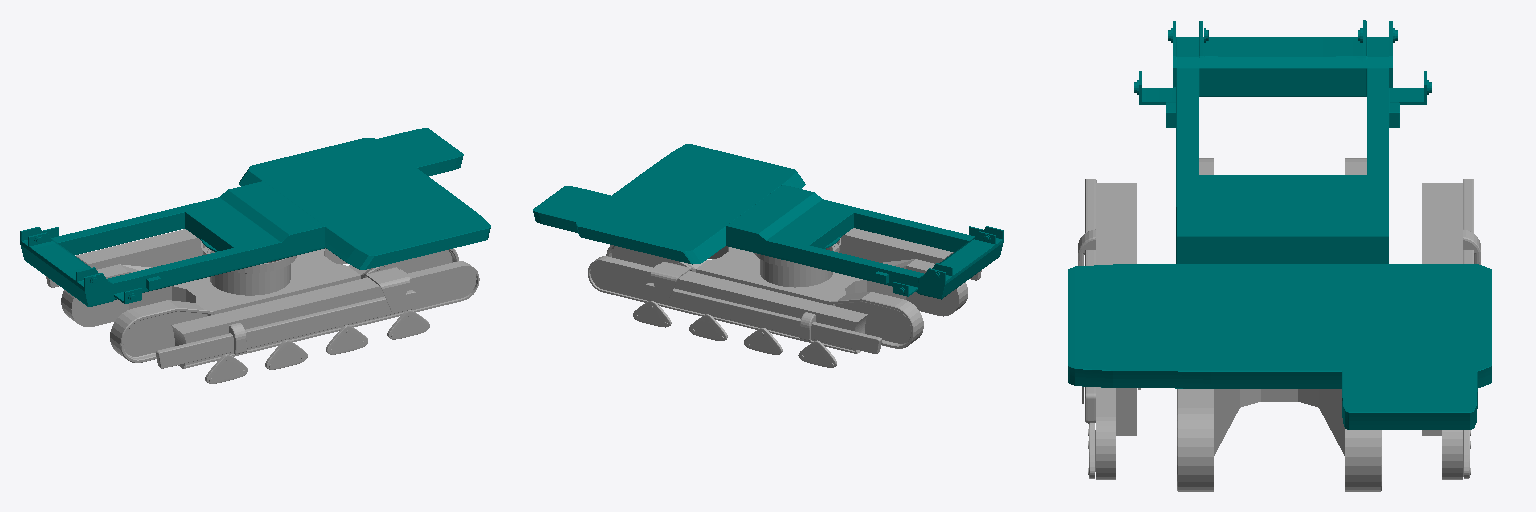
robot.urdf — ic120:
<?xml version="1.0" encoding="utf-8"?>
<!-- =================================================================================== -->
<!-- |    This document was autogenerated by xacro from ic120.xacro                    | -->
<!-- |    EDITING THIS FILE BY HAND IS NOT RECOMMENDED                                 | -->
<!-- =================================================================================== -->
<robot name="ic120">
  <!-- <xacro:property name="model_offset_x" value="-1.5" />
  <xacro:property name="model_offset_y" value="-3.1" /> -->
  <link name="base_link"/>
  <link name="track_frame_link">
    <visual>
      <geometry>
        <mesh filename="package://ic120_model/mesh/track_frame.stl"/>
      </geometry>
      <origin rpy="0 0 1.57079632675" xyz="3.1 -1.5 0"/>
      <material name="Gray">
        <color rgba="0.7 0.7 0.7 1.0"/>
      </material>
    </visual>
    <inertial>
      <mass value="1"/>
      <inertia ixx="1" ixy="0.0" ixz="0.0" iyy="1" iyz="0.0" izz="1"/>
    </inertial>
  </link>
  <joint name="track_frame_joint" type="fixed">
    <origin rpy="0 0 0" xyz="0 0 0"/>
    <parent link="base_link"/>
    <child link="track_frame_link"/>
    <axis xyz="0 0 1"/>
  </joint>
  <link name="track_belt_link">
    <visual>
      <geometry>
        <mesh filename="package://ic120_model/mesh/track_belt.stl"/>
      </geometry>
      <origin rpy="0 0 1.57079632675" xyz="3.1 -1.5 0"/>
      <material name="Black">
        <color rgba="0 0 0 1.0"/>
      </material>
    </visual>
    <inertial>
      <mass value="1"/>
      <inertia ixx="1" ixy="0.0" ixz="0.0" iyy="1" iyz="0.0" izz="1"/>
    </inertial>
  </link>
  <joint name="track_belt_joint" type="fixed">
    <origin rpy="0 0 0" xyz="0 0 0"/>
    <parent link="track_frame_link"/>
    <child link="track_belt_link"/>
    <axis xyz="0 0 1"/>
  </joint>
  <link name="upper_frame_link">
    <visual>
      <geometry>
        <mesh filename="package://ic120_model/mesh/upper.stl"/>
      </geometry>
      <origin rpy="0 0 1.57079632675" xyz="3.1 -1.5 0"/>
      <material name="Teal">
        <color rgba="0 0.5 0.5 1.0"/>
      </material>
    </visual>
    <inertial>
      <mass value="1"/>
      <inertia ixx="1" ixy="0.0" ixz="0.0" iyy="1" iyz="0.0" izz="1"/>
    </inertial>
  </link>
  <joint name="upper_frame_joint" type="fixed">
    <origin rpy="0 0 0" xyz="0 0 0"/>
    <parent link="track_frame_link"/>
    <child link="upper_frame_link"/>
    <axis xyz="0 0 1"/>
  </joint>
  <link name="cabin_link">
    <visual>
      <geometry>
        <mesh filename="package://ic120_model/mesh/cabin.stl"/>
      </geometry>
      <origin rpy="0 0 1.57079632675" xyz="3.1 -1.5 0"/>
      <material name="Black">
        <color rgba="0 0 0 1.0"/>
      </material>
    </visual>
    <inertial>
      <mass value="1"/>
      <inertia ixx="1" ixy="0.0" ixz="0.0" iyy="1" iyz="0.0" izz="1"/>
    </inertial>
  </link>
  <joint name="cabin_joint" type="fixed">
    <origin rpy="0 0 0" xyz="0 0 0"/>
    <parent link="track_frame_link"/>
    <child link="cabin_link"/>
    <axis xyz="0 0 1"/>
  </joint>
  <link name="cabin_window_link">
    <visual>
      <geometry>
        <mesh filename="package://ic120_model/mesh/cabin_window.stl"/>
      </geometry>
      <origin rpy="0 0 1.57079632675" xyz="3.1 -1.5 0"/>
      <material name="Gray">
        <color rgba="0.7 0.7 0.7 0.2"/>
      </material>
    </visual>
    <inertial>
      <mass value="1"/>
      <inertia ixx="1" ixy="0.0" ixz="0.0" iyy="1" iyz="0.0" izz="1"/>
    </inertial>
  </link>
  <joint name="cabin_window_joint" type="fixed">
    <origin rpy="0 0 0" xyz="0 0 0"/>
    <parent link="track_frame_link"/>
    <child link="cabin_window_link"/>
    <axis xyz="0 0 1"/>
  </joint>
  <link name="vessel_pin_link">
    <visual>
      <geometry>
        <box size="0.001 0.001 0.001"/>
      </geometry>
      <origin rpy="0 0 0" xyz="0 0 0"/>
      <material name="Gray">
        <color rgba="0.7 0.7 0.7 0.2"/>
      </material>
    </visual>
    <inertial>
      <origin xyz="0 0 0"/>
      <mass value="1.0e-03"/>
      <inertia ixx="1.0e-03" ixy="0.0" ixz="0.0" iyy="1.0e-03" iyz="0.0" izz="1.0e-03"/>
    </inertial>
  </link>
  <joint name="vessel_pin_joint" type="revolute">
    <origin rpy="0 0 0" xyz="-2 0 1.5"/>
    <parent link="base_link"/>
    <child link="vessel_pin_link"/>
    <axis xyz="0 1 0"/>
    <limit effort="1" lower="-3.14" upper="0" velocity="0.5"/>
  </joint>
  <link name="vessel_middle_link"/>
  <joint name="vessel_middle_joint" type="fixed">
    <origin rpy="0 0 0" xyz="1 0 1"/>
    <parent link="vessel_pin_link"/>
    <child link="vessel_middle_link"/>
  </joint>
</robot>

--- Facts derived from the render (not from the file) ---
The picture shows the robot from 3 angles, left to right: view 1: azimuth 30°, elevation 25°; view 2: azimuth 150°, elevation 25°; view 3: azimuth 270°, elevation 25°; orthographic projection.
Robot: ic120 — 8 links, 7 joints (1 revolute, 6 fixed); root link base_link; default pose: every joint at zero.
Visible links, largest first — view 1: upper_frame_link, track_frame_link; view 2: upper_frame_link, track_frame_link; view 3: upper_frame_link, track_frame_link.
Link boxes in pixels (x1,y1,x2,y2): upper_frame_link: (20, 128, 490, 306); track_frame_link: (46, 229, 479, 383); upper_frame_link: (533, 144, 1003, 299); track_frame_link: (588, 228, 981, 367); upper_frame_link: (1068, 20, 1491, 429); track_frame_link: (1078, 158, 1480, 491).
Size in the robot's own frame: 5.34 by 2.66 by 1.36 metres.
Meshes: 5 distinct files referenced, 2 mesh visuals loaded (2 binary STL); not drawn: 3 (reference not matched to a file when rendering).
